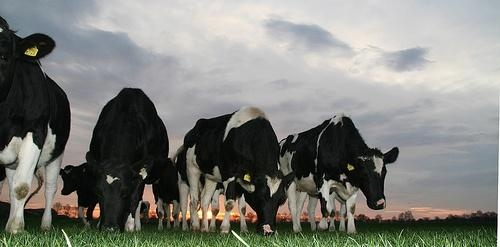cow: (1, 15, 74, 237), (281, 116, 399, 234), (181, 108, 281, 235), (87, 87, 171, 236), (60, 160, 100, 222)
